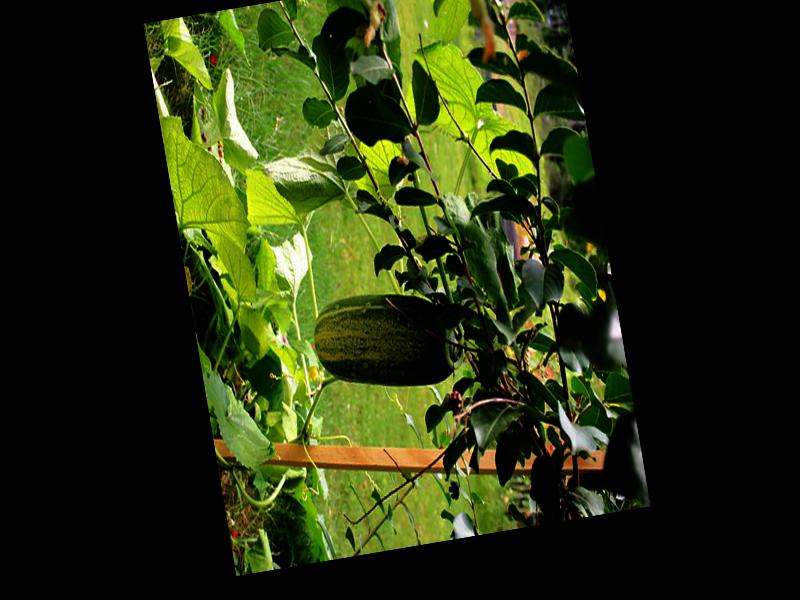Cucumber: (307, 282, 470, 404)
